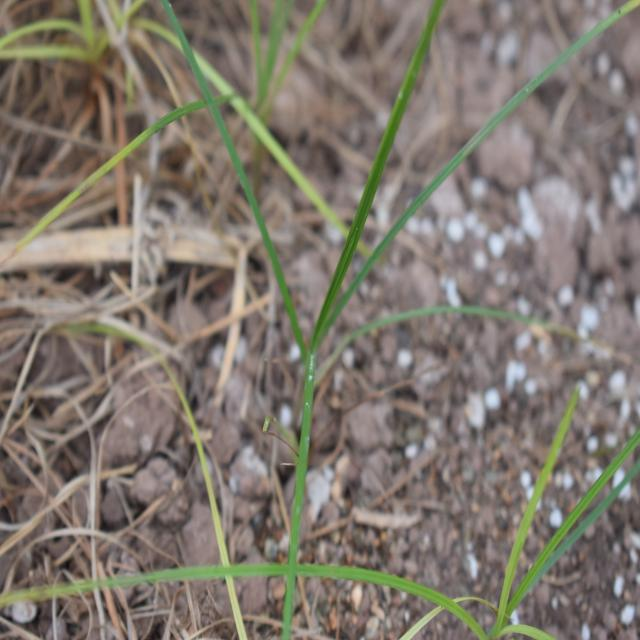sedge: (212, 48, 578, 513)
